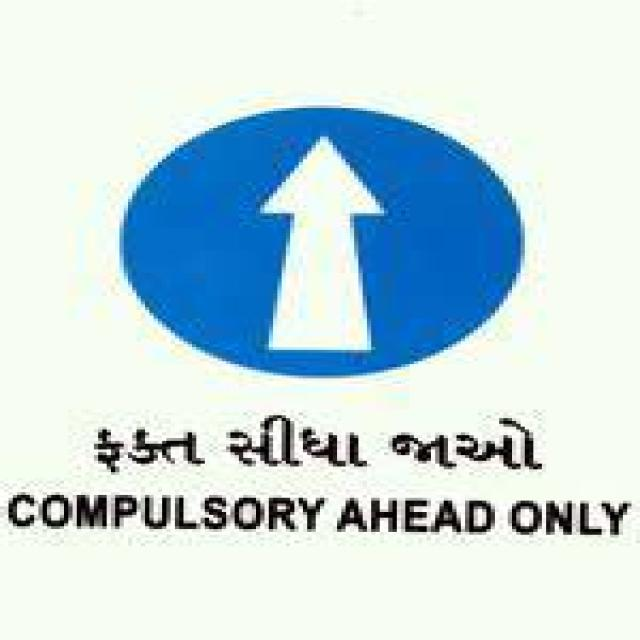compulsory_ahead: (122, 99, 528, 382)
